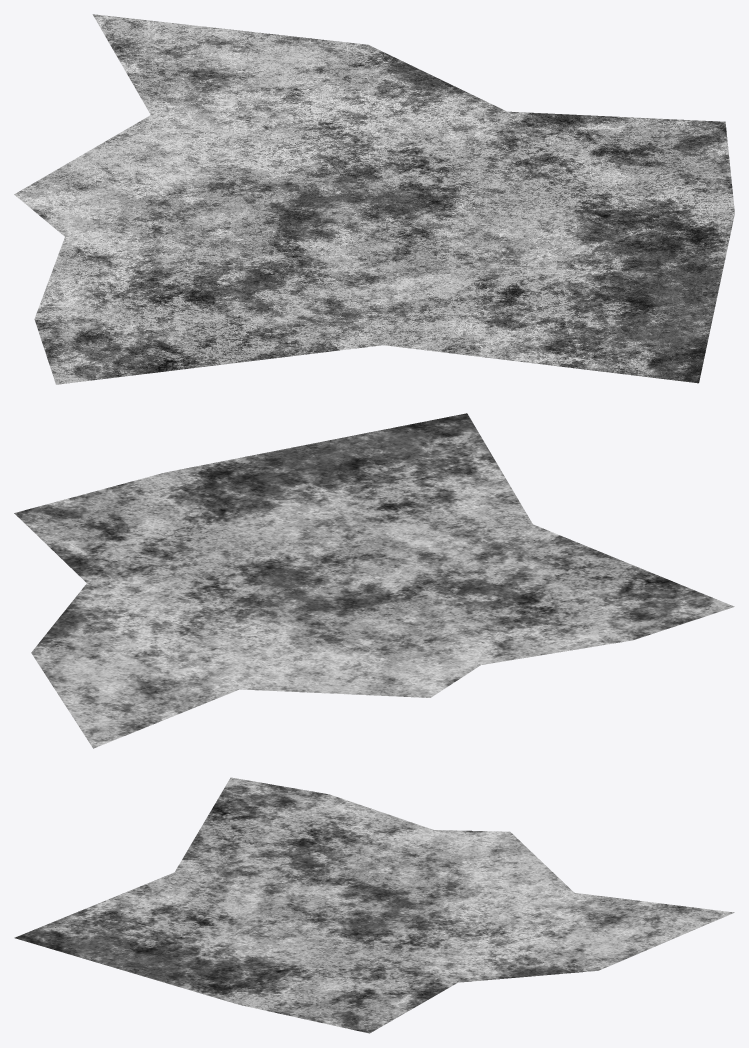
File: scrap.glb
The picture shows the model from 3 angles, top to bottom: view 1: azimuth 30°, elevation 25°; view 2: azimuth 150°, elevation 25°; view 3: azimuth 270°, elevation 25°; orthographic projection. The views are drawn at different scales.
Parts seen in each view (by area): view 1: Plane; view 2: Plane; view 3: Plane.
Part boxes in pixels (<box>): Plane: <box>14,14,734,384</box>; Plane: <box>14,413,734,748</box>; Plane: <box>14,777,734,1033</box>.
Size of the model in its own units: 1.56 by 0 by 1.85.
1 material, 1 textured.
